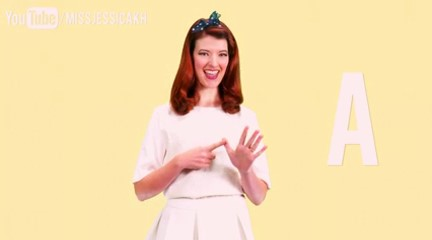A: (166, 120, 280, 188)
